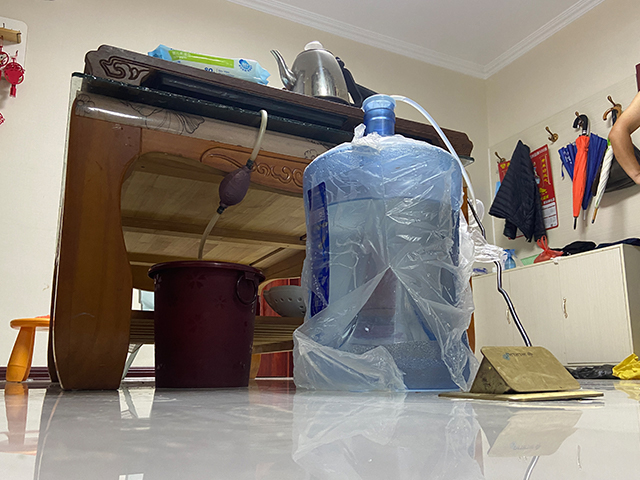cabinet: (469, 241, 640, 378)
stool: (3, 317, 51, 383)
table: (45, 42, 477, 393)
trashcan: (144, 259, 267, 390)
wire: (465, 197, 533, 347)
